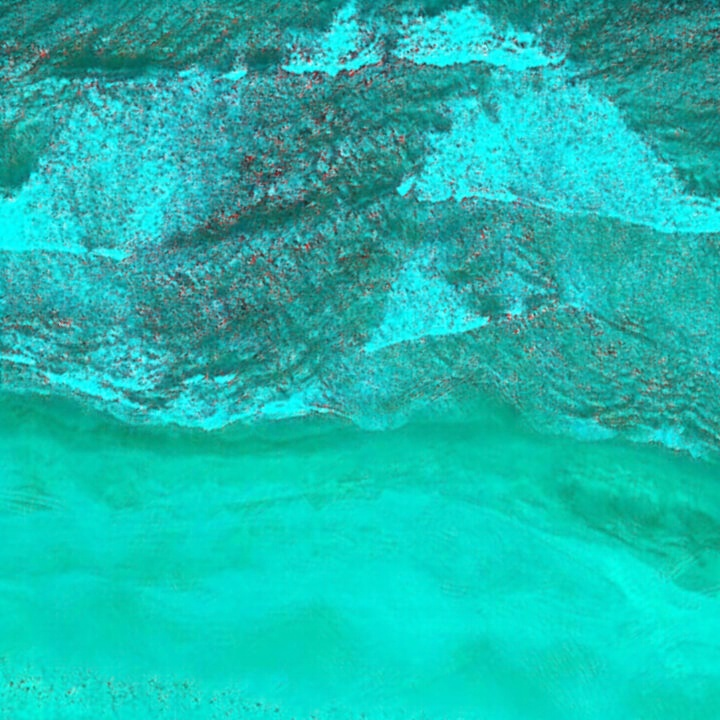rip_current: (172, 51, 451, 441)
